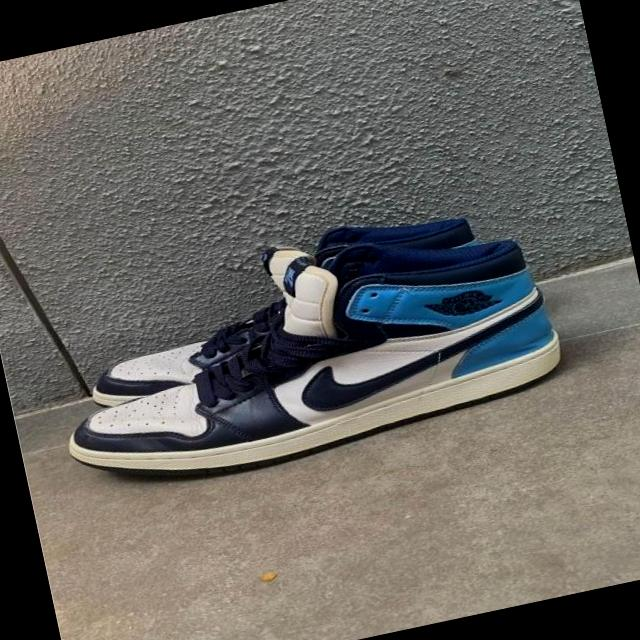nike_fake_jordan: (29, 207, 576, 508), (67, 200, 495, 411)
